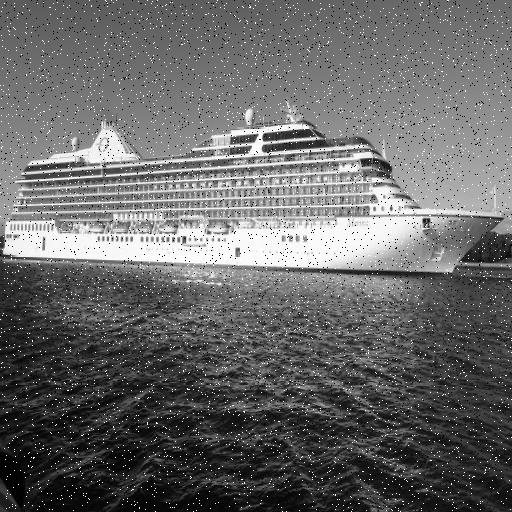cruises: (1, 97, 506, 284)
